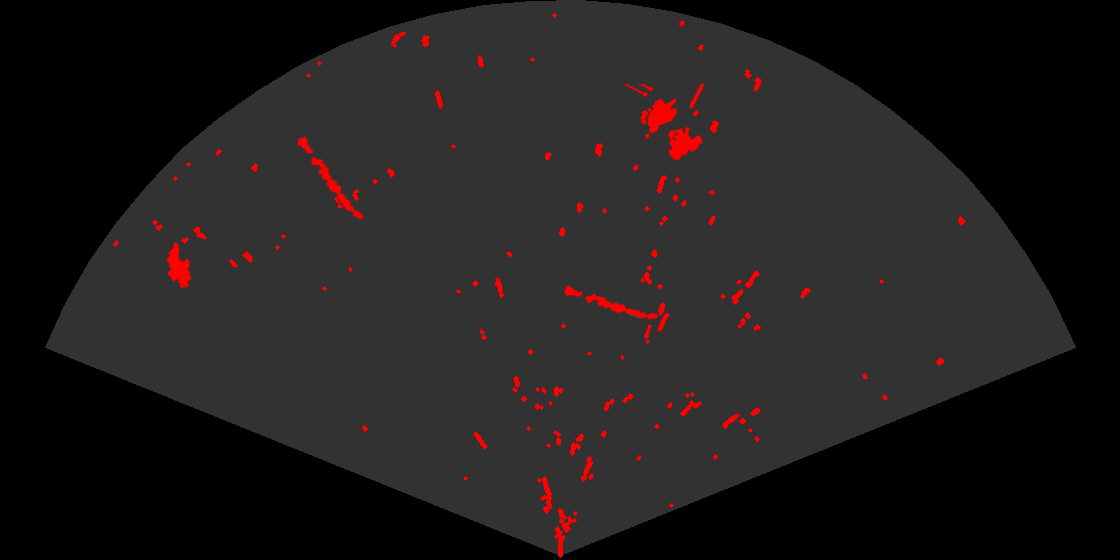AUV: (166, 240, 193, 290)
cage: (623, 84, 706, 162)
chain: (295, 135, 365, 221), (562, 284, 660, 321)
